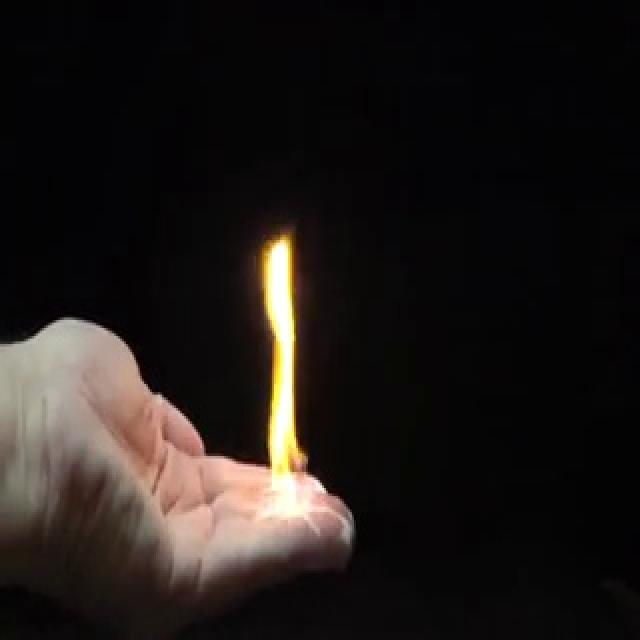fire: (251, 228, 314, 517)
